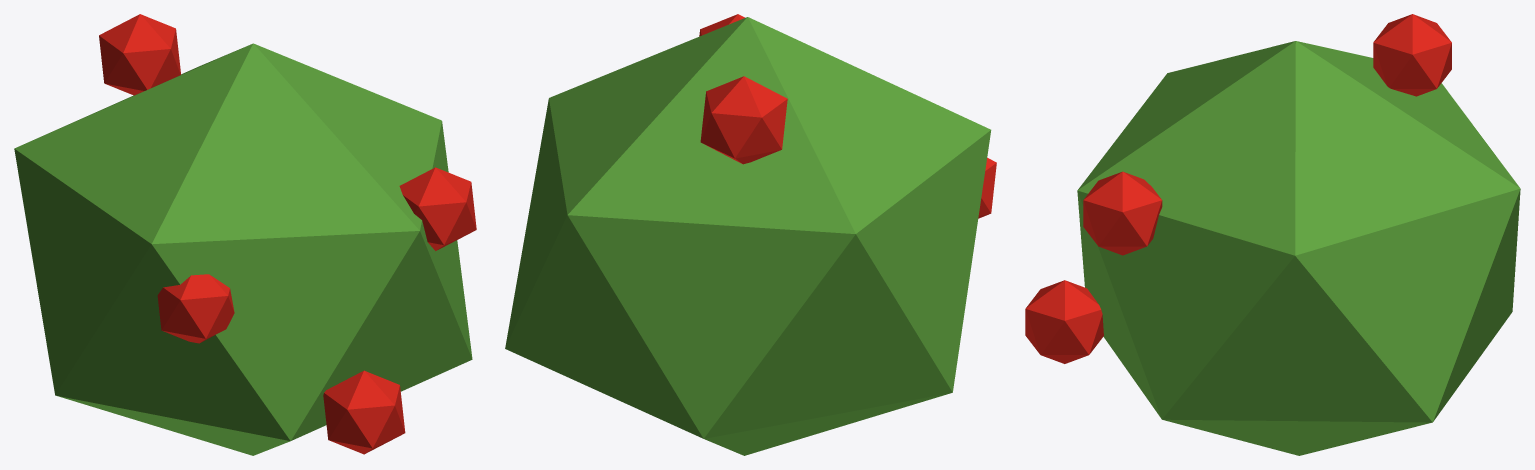
The model's file is garden2_rose_bush.glb.
The picture shows the model from 3 angles, left to right: view 1: azimuth 30°, elevation 25°; view 2: azimuth 150°, elevation 25°; view 3: azimuth 270°, elevation 25°; orthographic projection. The views are drawn at different scales.
Visible parts, largest first — view 1: rose_bush; view 2: rose_bush; view 3: rose_bush.
Boxes of the visible parts, <box> form: rose_bush: <box>14,14,476,455</box>; rose_bush: <box>505,14,996,455</box>; rose_bush: <box>1025,14,1520,455</box>.
Bounding box in the file's own units: 0.383 × 0.3945 × 0.4272.
